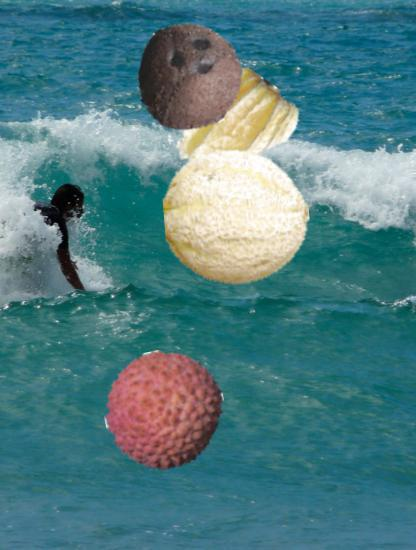Cantaloupe: (164, 145, 310, 291)
Cocos: (133, 21, 245, 133)
Lychee: (104, 350, 226, 472)
Physalis: (178, 72, 295, 189)
